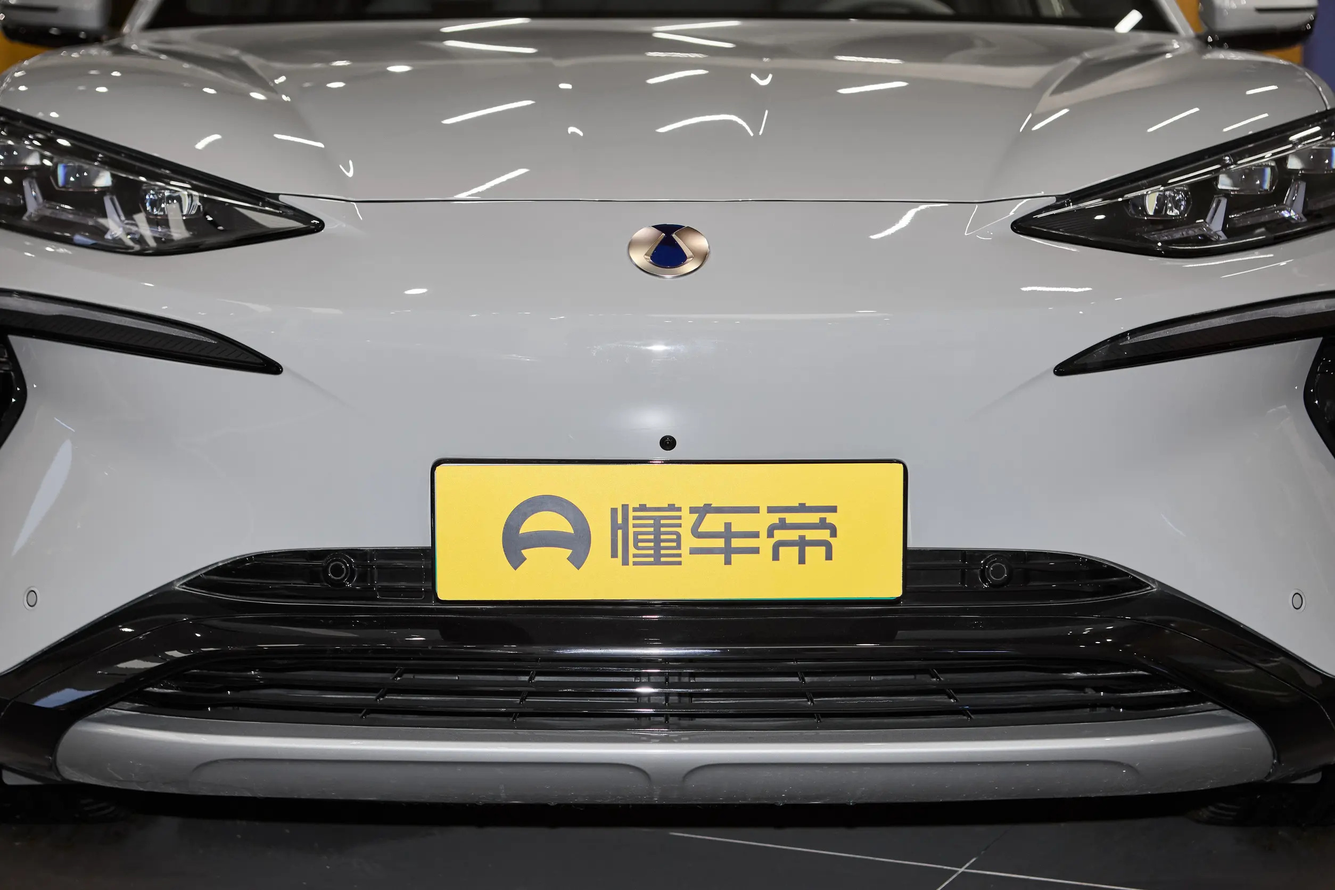DENZA: (629, 224, 708, 278)
